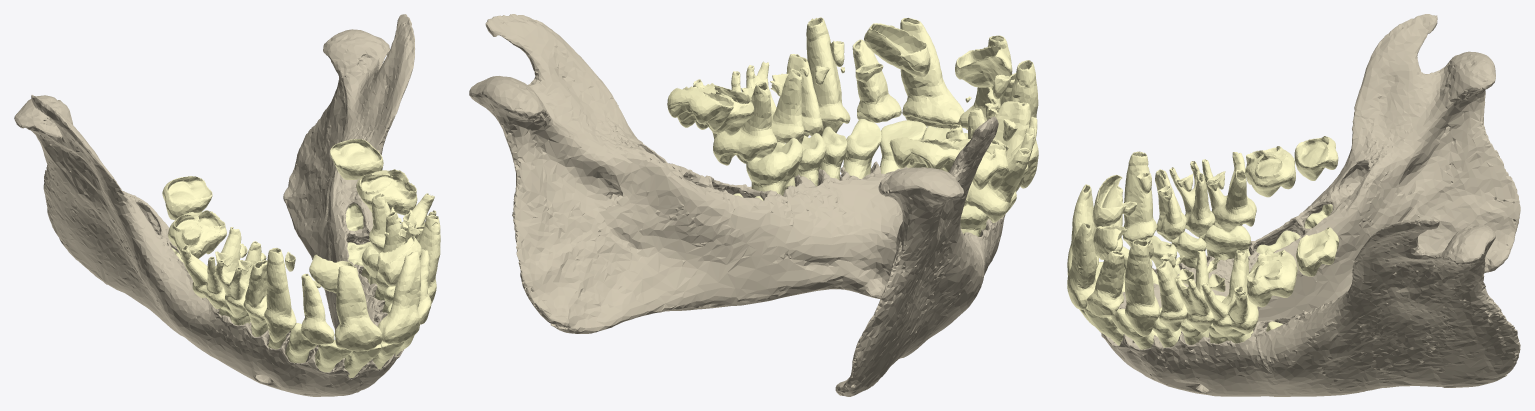
The model's file is jaw.glb.
3 renders of one model, left to right at view 1: azimuth 30°, elevation 25°; view 2: azimuth 150°, elevation 25°; view 3: azimuth 270°, elevation 25°, orthographic. The views are drawn at different scales.
Parts seen in each view (by area): view 1: Mandible_filled_300K.002, Lmax_C1.003, Lmand_C1.003; view 2: Mandible_filled_300K.002, Lmax_C1.003, Lmand_C1.003; view 3: Mandible_filled_300K.002, Lmax_C1.003, Lmand_C1.003.
Part boxes in pixels (x1=…): Mandible_filled_300K.002: x1=14, y1=14, x2=414, y2=396; Lmax_C1.003: x1=162, y1=139, x2=440, y2=351; Lmand_C1.003: x1=172, y1=203, x2=414, y2=377; Mandible_filled_300K.002: x1=469, y1=14, x2=1005, y2=396; Lmax_C1.003: x1=667, y1=17, x2=1038, y2=222; Lmand_C1.003: x1=733, y1=119, x2=989, y2=236; Mandible_filled_300K.002: x1=1100, y1=14, x2=1520, y2=396; Lmax_C1.003: x1=1067, y1=136, x2=1338, y2=336; Lmand_C1.003: x1=1079, y1=204, x2=1332, y2=349.
Size of the model in its own units: 30.99 by 20.4 by 30.42.
